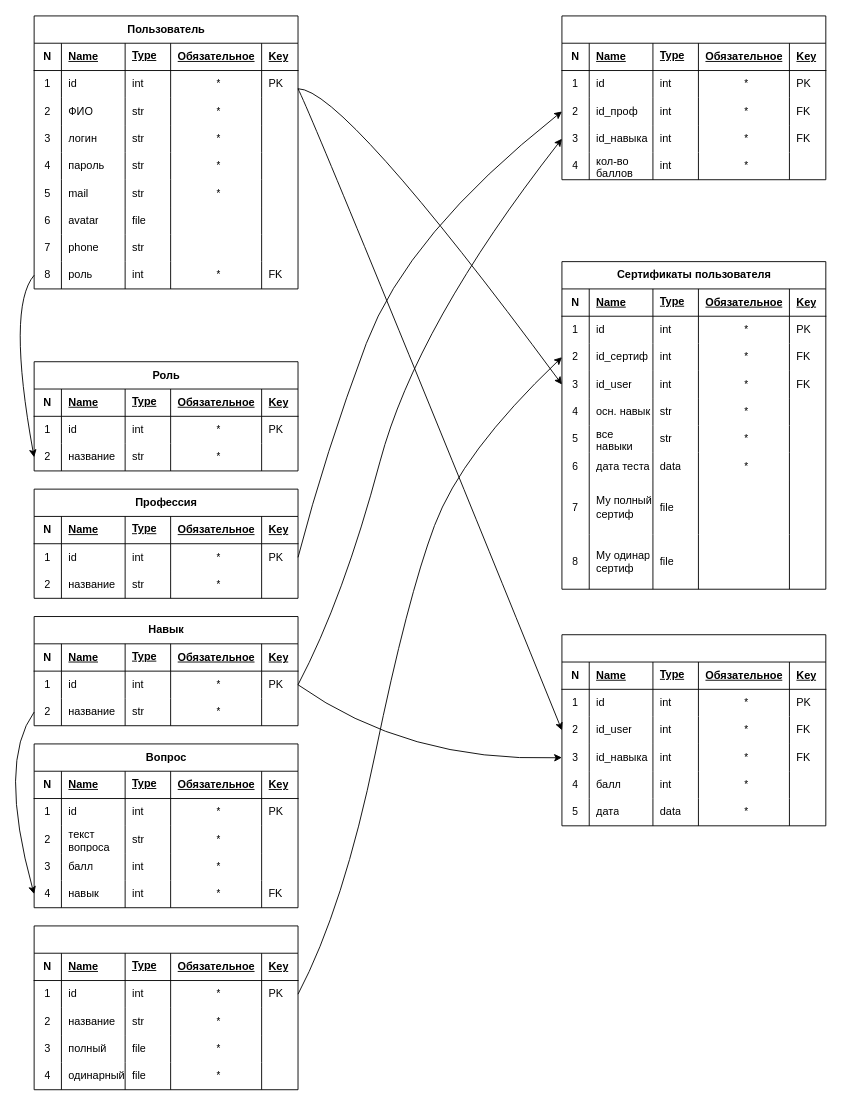
Image size: 843x1106. Some labels were removed from this diagram. Here are the shapes that lost their labels. From the top down, the box of each, then its label:
(561, 15, 826, 180): Модельная профессия
(561, 634, 826, 826): Ответы
(33, 925, 298, 1090): Пустой сертификат
